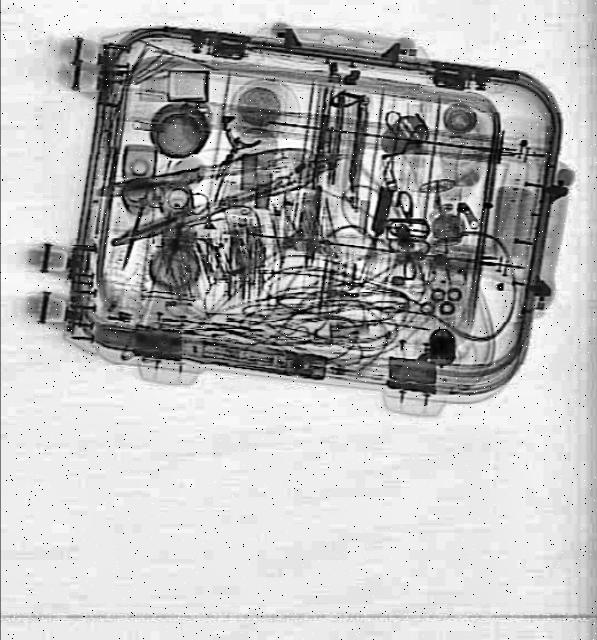Scissors: (105, 181, 171, 275), (153, 188, 209, 270)
